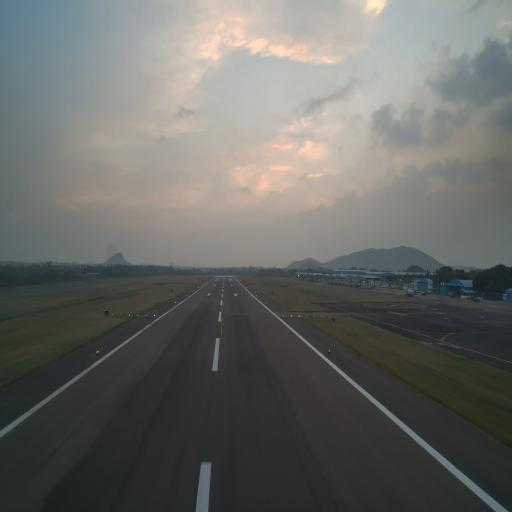on: (327, 344, 332, 356), (95, 346, 100, 357)
